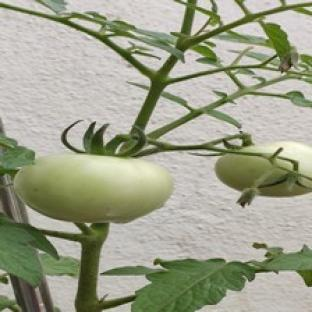Tomato: (14, 155, 172, 222), (215, 154, 311, 196)
